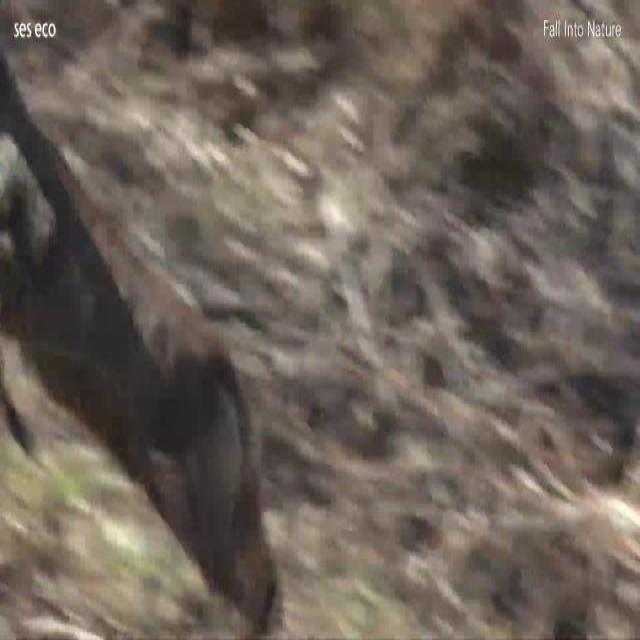deer: (0, 51, 282, 638)
